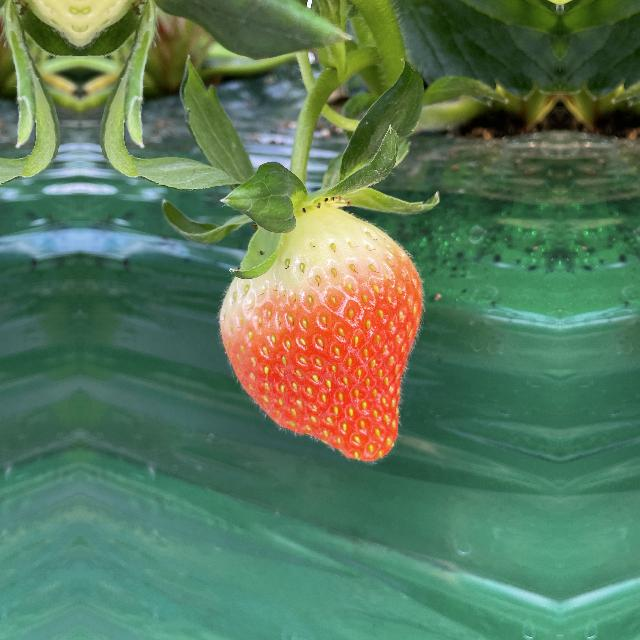Health_100: (209, 186, 431, 472)
